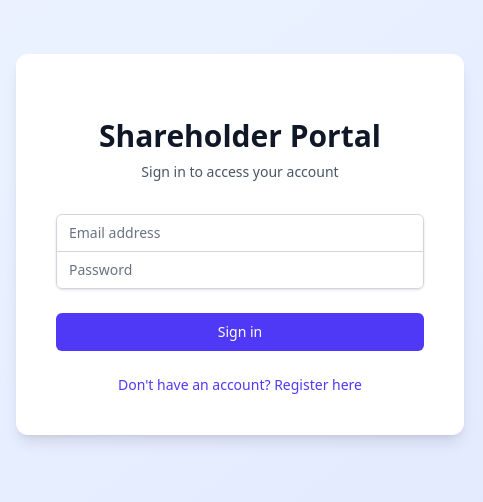
Test: LoginPage › shows error message on failed login
Type "wrong@example.com" into the field labelled "Email address" at (240, 232), box [56,214,424,252]
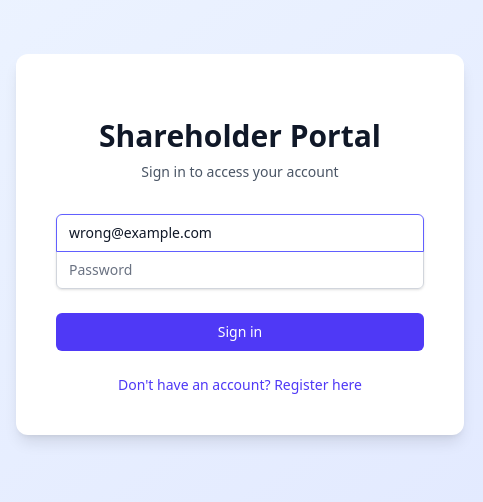
Type "wrongpass" into the password field labelled "Password" at (240, 270), box [56,250,424,288]
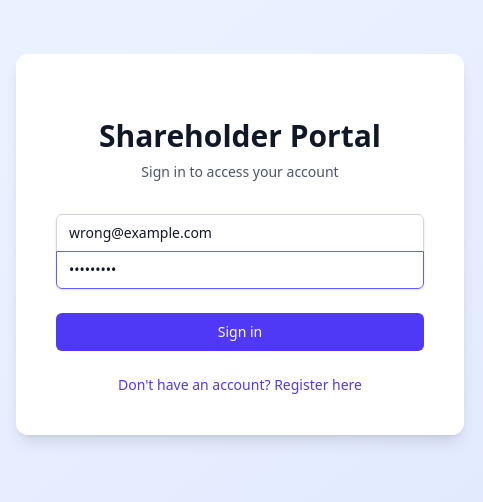
Click the button "Sign in" at (240, 332), box [56,312,424,350]
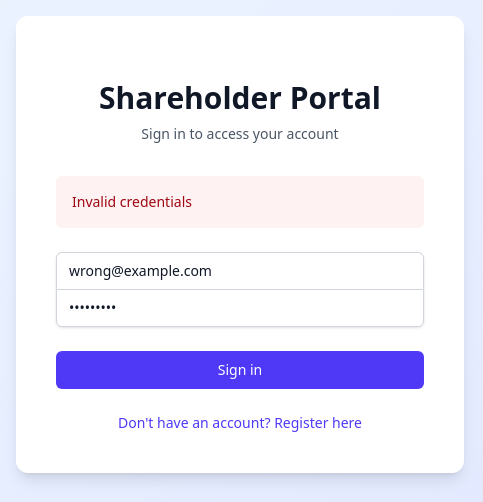
Result: the text "Invalid credentials" is shown at [72,192,192,210]
